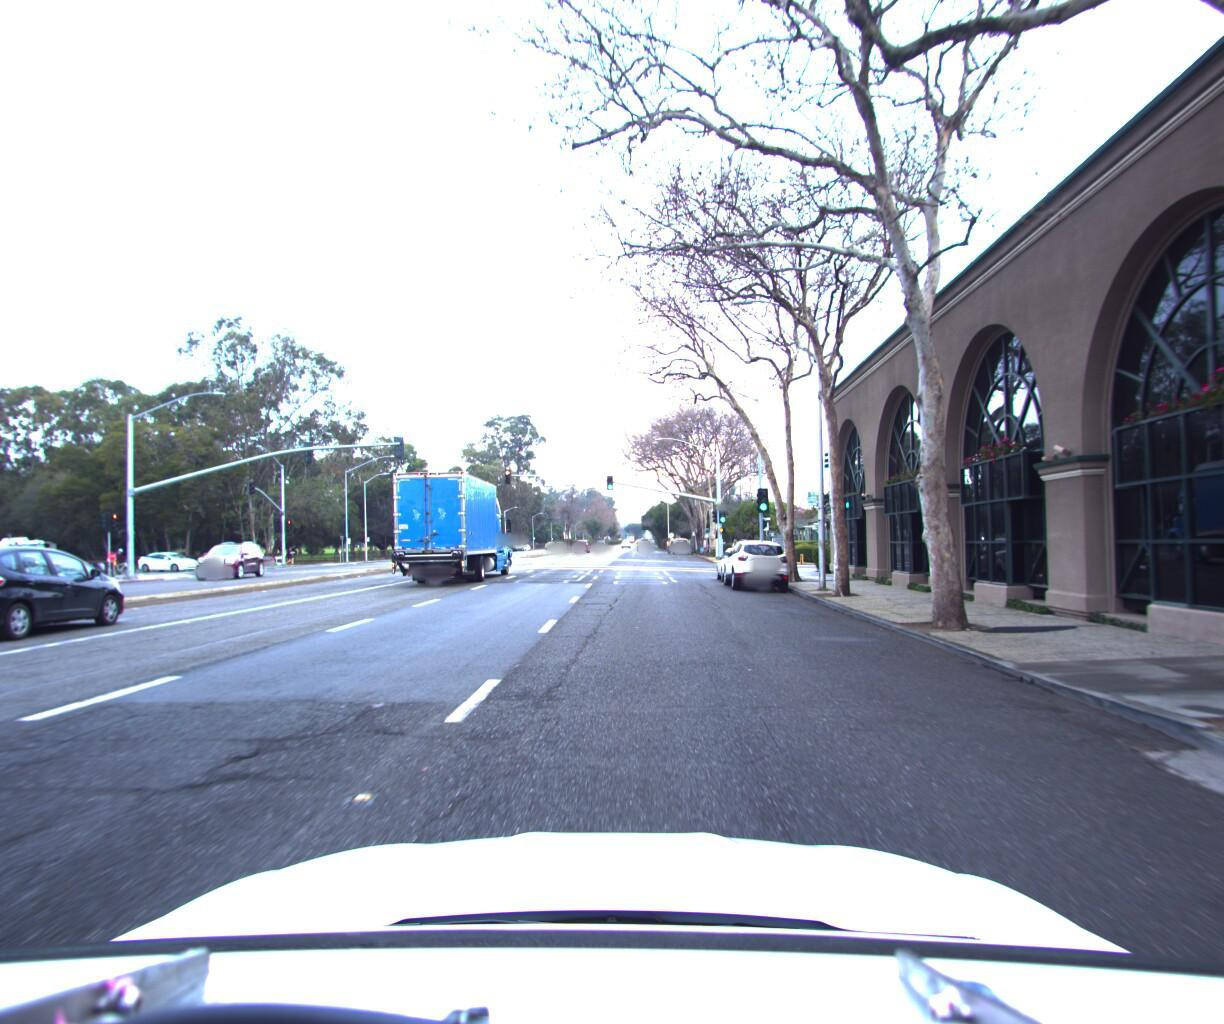bicycle: (102, 547, 141, 576)
car: (722, 532, 788, 588), (189, 533, 271, 575), (715, 540, 764, 579), (134, 546, 206, 568)
truck: (375, 458, 522, 587)
